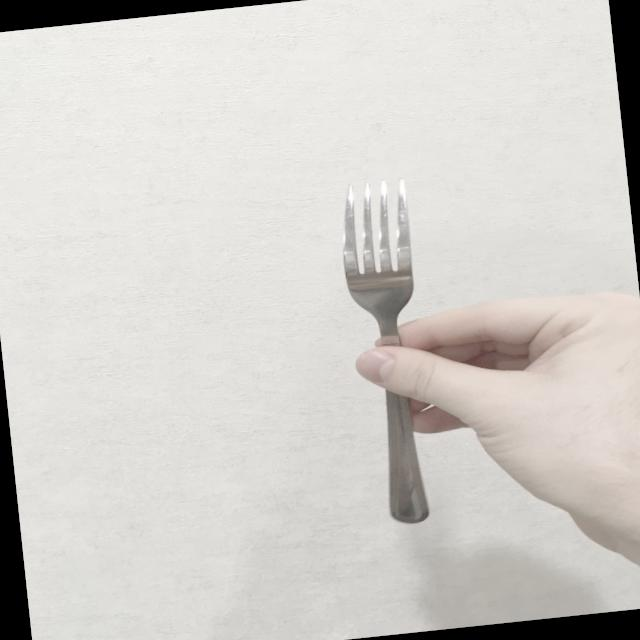fork: (334, 174, 444, 529)
